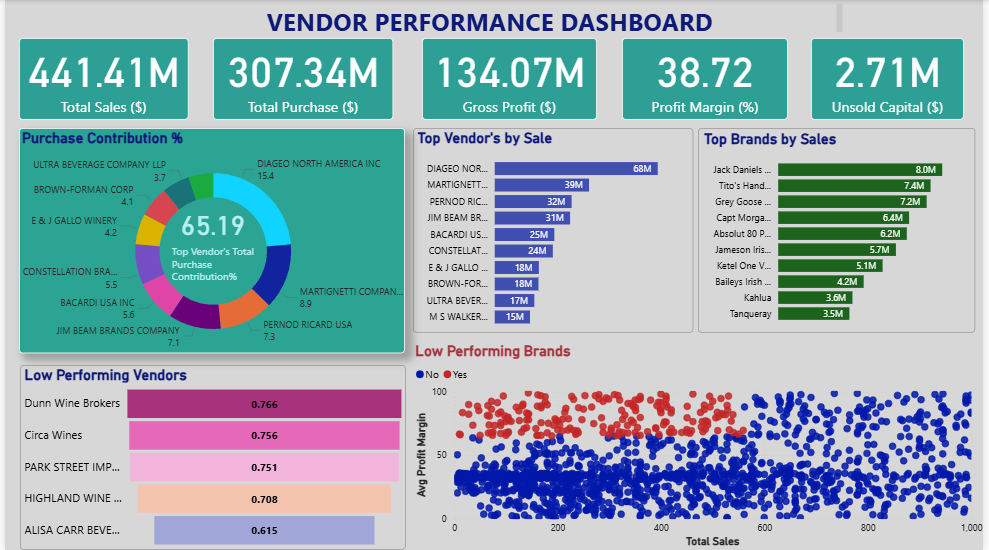

This screenshot's page, from the dashboard's own definition file:
{"tool":"powerbi","page":{"name":"Page 1","canvas":[1280,720],"ordinal":0},"visuals":[{"type":"card","title":"Total Sales","fields":{"Values":["Sum(vendor_sales_summary.TotalSalesDollars)"]},"box":[18.7,50.4,221.8,106.6],"z":0},{"type":"card","fields":{"Values":["Sum(vendor_sales_summary.TotalPurchaseDollars)"]},"box":[272.2,50.4,236.2,106.6],"z":1000},{"type":"card","fields":{"Values":["Sum(vendor_sales_summary.GrossProfit)"]},"box":[545.8,50.4,229,106.6],"z":2000},{"type":"card","fields":{"Values":["Avg(vendor_sales_summary.ProfitMargin)"]},"box":[807.8,50.4,217.4,106.6],"z":3000},{"type":"card","fields":{"Values":["Sum(vendor_sales_summary.UnsoldCapital)"]},"box":[1055.5,50.4,200.2,106.6],"z":4000},{"type":"barChart","title":"Top Vendor''s by Sale","fields":{"Category":["vendor_sales_summary.VendorName"],"Y":["Sum(vendor_sales_summary.TotalSalesDollars)"]},"box":[534.2,167,367.2,267.8],"z":6000},{"type":"barChart","title":"Top Brands by Sales","fields":{"Category":["vendor_sales_summary.Description"],"Y":["Sum(vendor_sales_summary.TotalSalesDollars)"]},"box":[907.2,167,362.9,267.8],"z":7000},{"type":"funnel","title":"Low Performing Vendors","fields":{"Y":["Avg(LowTurnoverVendor.AvgStockTurnover)"],"Category":["LowTurnoverVendor.VendorName"]},"box":[19.6,477.8,505.3,242.2],"z":8000},{"type":"scatterChart","title":"Low Performing Brands","fields":{"Category":["BrandPerformance.Description"],"X":["Sum(BrandPerformance.TotalSales)"],"Y":["Avg(BrandPerformance.AvgProfitMargin)"],"Series":["BrandPerformance.TargetBrand"]},"box":[534.2,447.8,745.9,272.2],"z":9000},{"type":"textbox","box":[175.7,0,925.9,50.4],"z":10000},{"type":"donutChart","title":"Purchase Contribution %","fields":{"Category":["PurchaseContribution.VendorName"],"Y":["Sum(PurchaseContribution.PurchaseContribution%)"]},"box":[18.7,167,505.4,295.2],"z":10001},{"type":"card","fields":{"Values":["Sum(PurchaseContribution.PurchaseContribution%)"]},"box":[213.1,269.3,116.6,44.6],"z":10002},{"type":"textbox","box":[213.1,313.9,146.9,63.4],"z":10003}]}

Visuals, with their boxes in screenshot pixels (x1, y1, x2, y2), scaled from the page's 1280x720 canvas onto the 989x550 screenshot:
"Total Sales" card: l=14, t=38, r=186, b=120
card - Sum(vendor_sales_summary.TotalPurchaseDollars): l=210, t=38, r=393, b=120
card - Sum(vendor_sales_summary.GrossProfit): l=422, t=38, r=599, b=120
card - Avg(vendor_sales_summary.ProfitMargin): l=624, t=38, r=792, b=120
card - Sum(vendor_sales_summary.UnsoldCapital): l=816, t=38, r=970, b=120
"Top Vendor''s by Sale" barChart: l=413, t=128, r=696, b=332
"Top Brands by Sales" barChart: l=701, t=128, r=981, b=332
"Low Performing Vendors" funnel: l=15, t=365, r=406, b=549
"Low Performing Brands" scatterChart: l=413, t=342, r=988, b=549
textbox: l=136, t=0, r=851, b=38
"Purchase Contribution %" donutChart: l=14, t=128, r=405, b=353
card - Sum(PurchaseContribution.PurchaseContribution%): l=165, t=206, r=255, b=240
textbox: l=165, t=240, r=278, b=288
